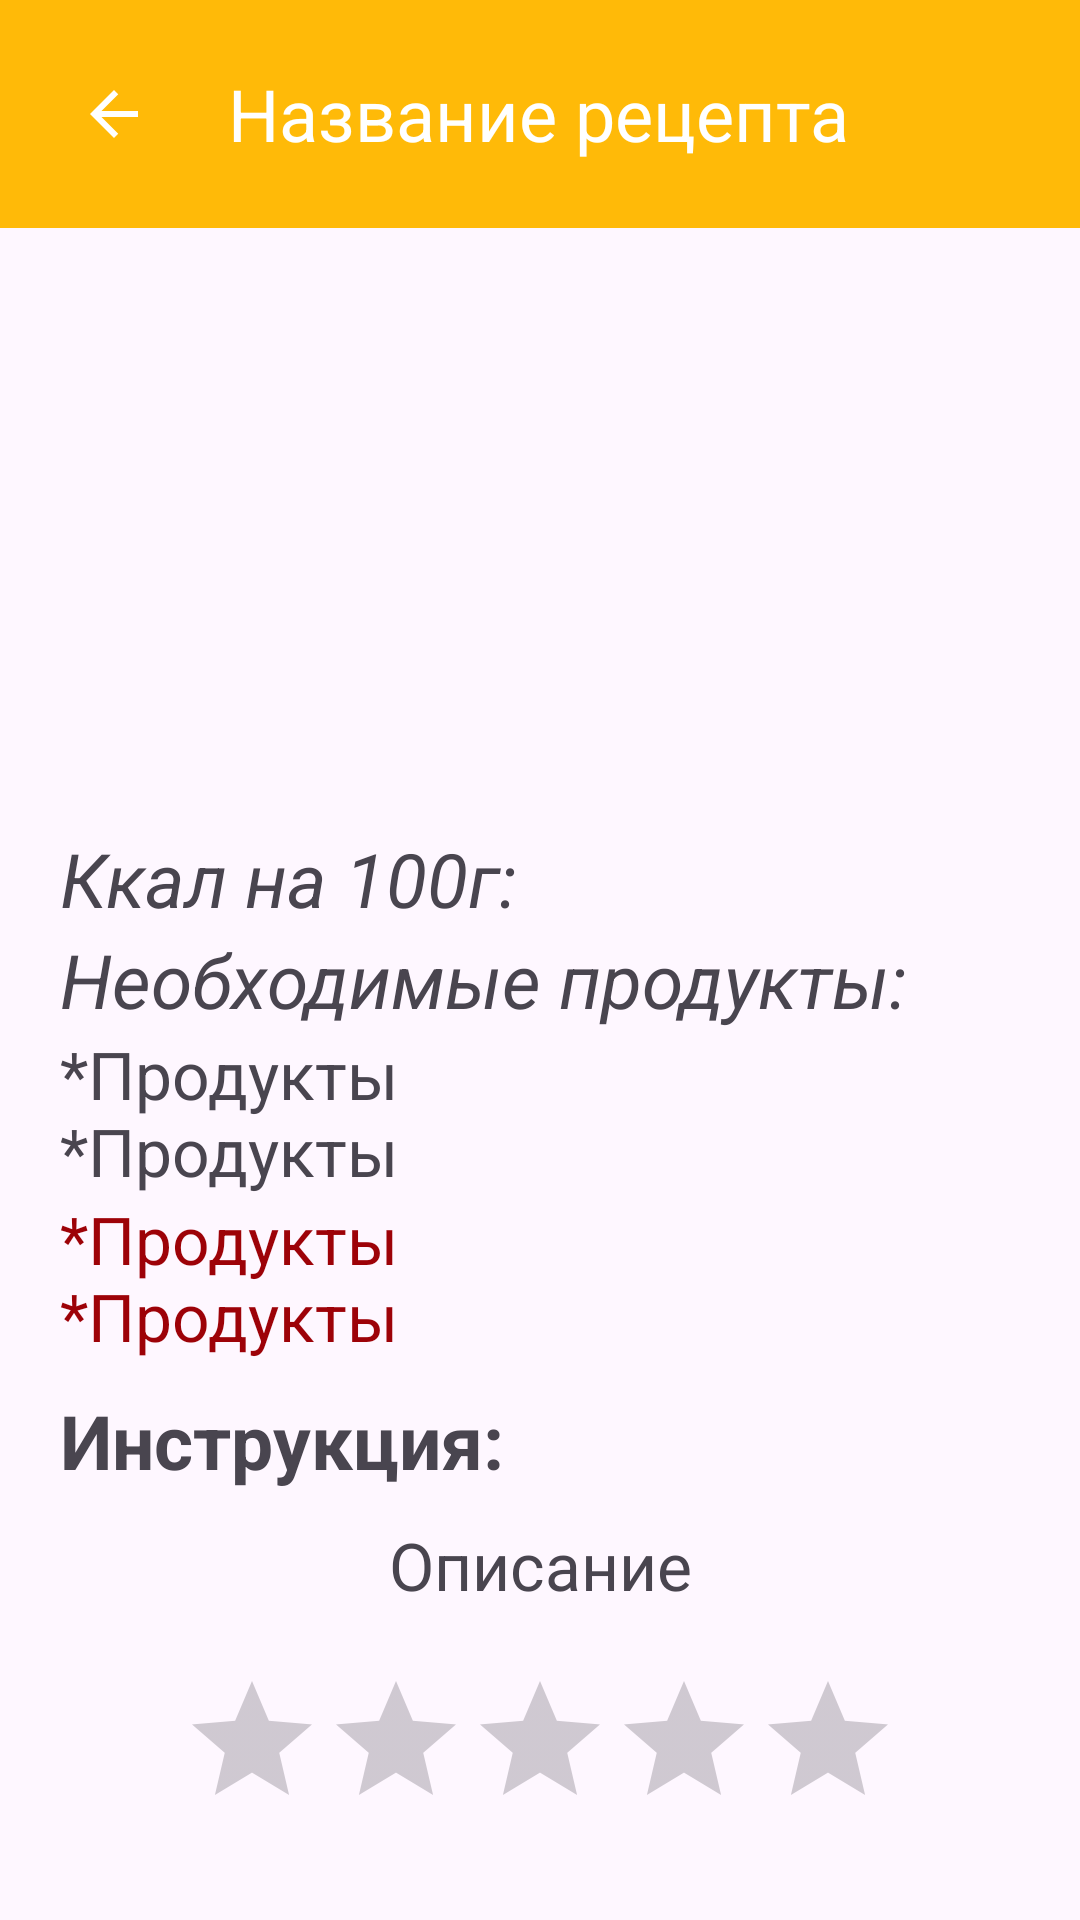

Screen size 1080 x 1920. Icon name, then its center in pixels as [x,y]:
arrow back: [114,114]
